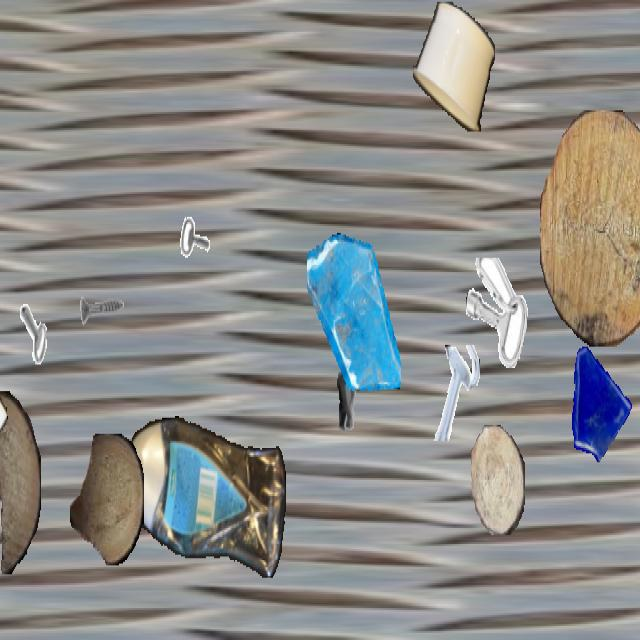glass: (307, 231, 401, 398), (562, 336, 632, 460)
metal: (466, 258, 528, 368), (428, 345, 482, 441), (19, 270, 73, 366), (322, 359, 372, 448), (78, 270, 124, 352), (180, 192, 220, 263), (615, 176, 640, 286), (627, 80, 640, 165)
plastic: (125, 414, 285, 585), (413, 2, 495, 130), (0, 384, 12, 576)
wood: (540, 110, 640, 345), (70, 434, 144, 565), (0, 391, 41, 573), (471, 425, 525, 535)
